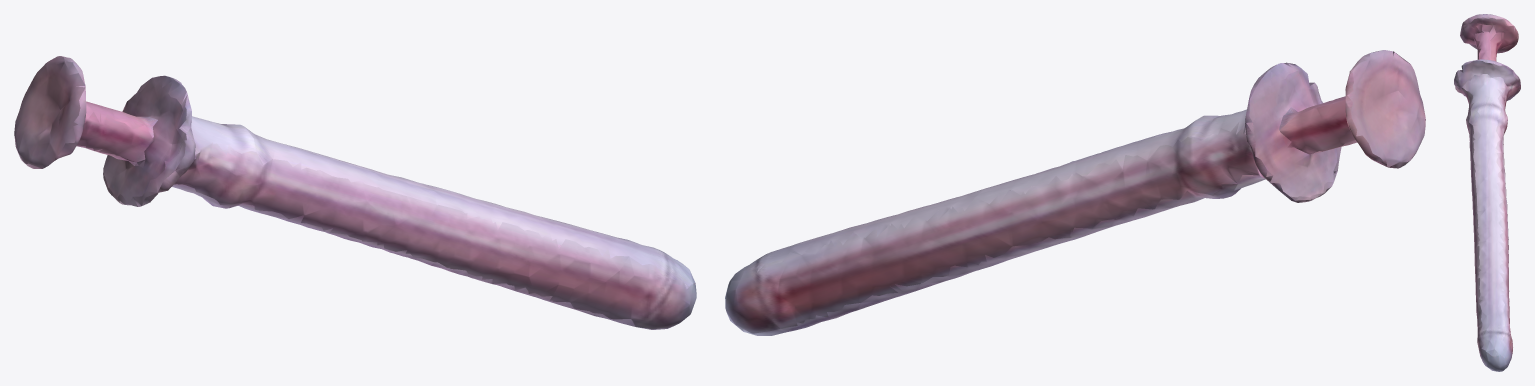
File: syringe.glb
3 views of the same model, side by side, from view 1: azimuth 30°, elevation 25°; view 2: azimuth 150°, elevation 25°; view 3: azimuth 270°, elevation 25° (orthographic). The views are drawn at different scales.
Parts seen in each view (by area): view 1: world; view 2: world; view 3: world.
Part boxes in pixels (box(x1,y1,x2,y2)): world: box(14, 56, 696, 329); world: box(725, 50, 1425, 335); world: box(1454, 14, 1520, 371).
Bounding box in the file's own units: 0.9679 × 0.5727 × 0.1661.
1 material, 1 textured.
